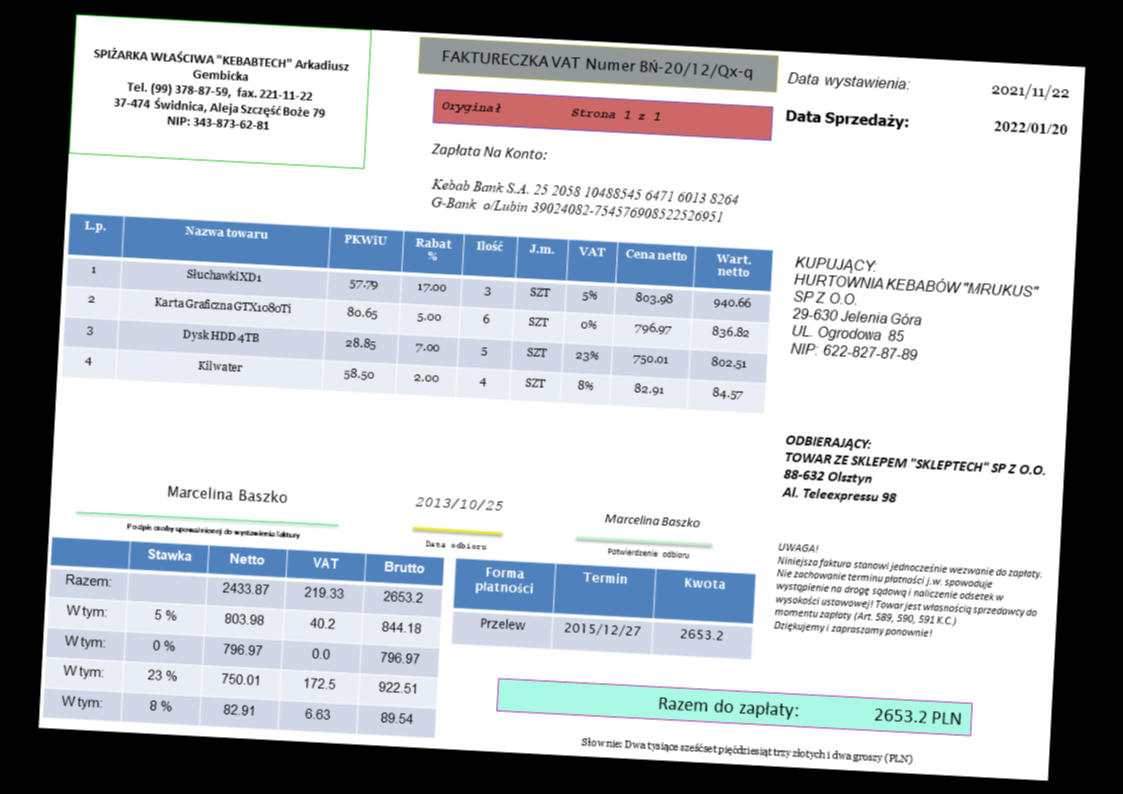Table: (59, 209, 775, 414), (40, 536, 445, 739), (449, 556, 756, 660)
TextBox: (786, 251, 1042, 370), (770, 539, 1043, 646), (86, 42, 350, 137), (778, 429, 1049, 514), (428, 173, 740, 226), (437, 45, 755, 84), (578, 732, 915, 767), (655, 691, 961, 729), (438, 96, 665, 127), (123, 520, 302, 542), (783, 105, 913, 133), (784, 67, 911, 94), (429, 138, 551, 164), (165, 483, 288, 505), (986, 79, 1072, 103), (602, 510, 702, 530), (412, 493, 506, 513), (989, 117, 1071, 138), (605, 544, 691, 561), (423, 536, 488, 552)
